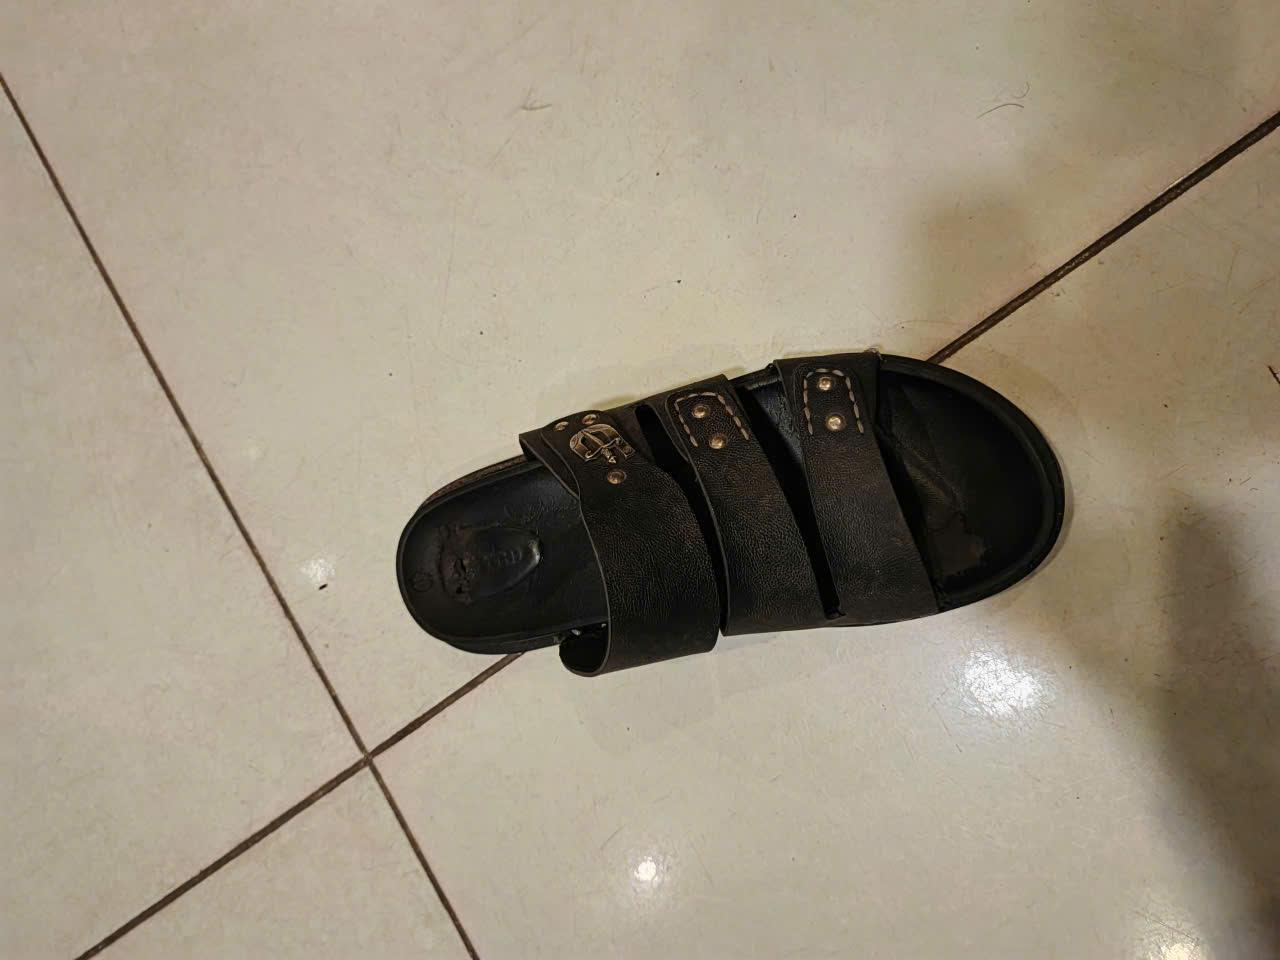Con lai: (396, 348, 1064, 676)
